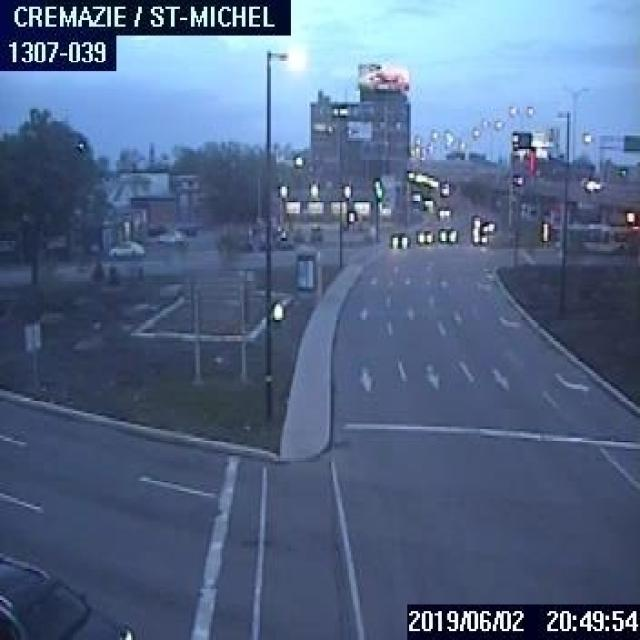bus: (550, 223, 638, 253)
vehicle: (0, 553, 140, 638), (107, 237, 143, 256), (155, 228, 185, 243), (436, 225, 456, 243), (389, 229, 407, 247), (580, 175, 600, 191), (415, 226, 432, 242), (469, 230, 487, 244), (436, 204, 450, 218), (479, 218, 493, 232)
